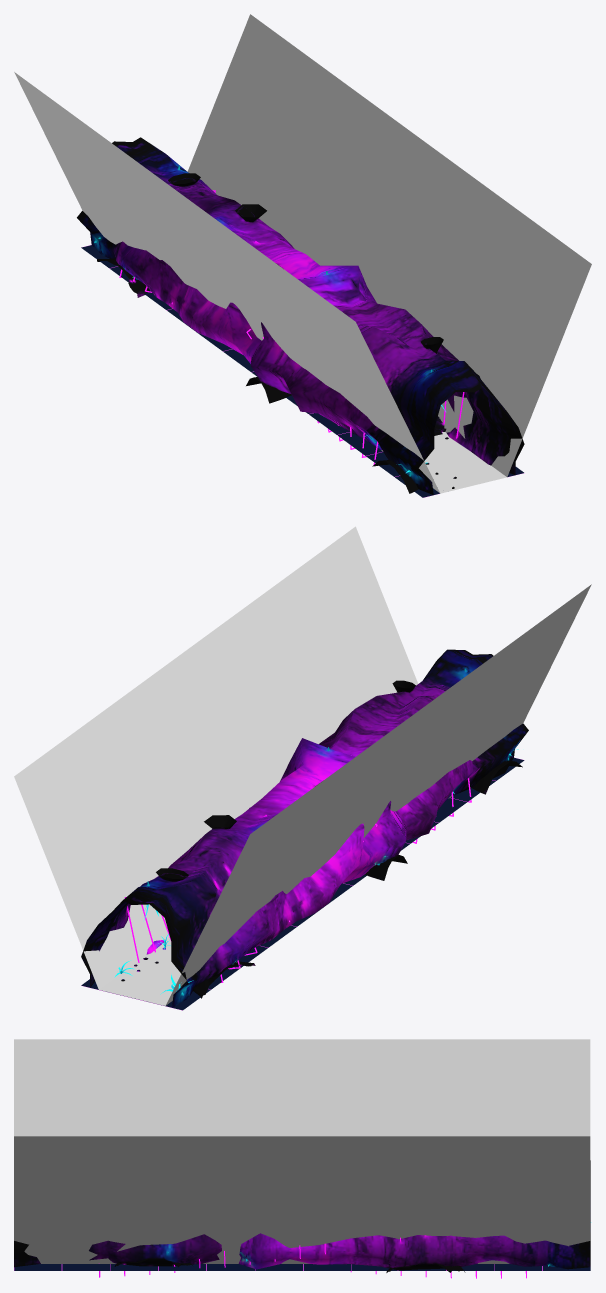
File: Cave_Corridor_1.fbx
3 views of the same model, one above another, from view 1: azimuth 30°, elevation 25°; view 2: azimuth 150°, elevation 25°; view 3: azimuth 270°, elevation 25° (orthographic). The views are drawn at different scales.
Visible parts, largest first — view 1: Cave_Corridor_Colider, Cave_Corridor_1; view 2: Cave_Corridor_Colider, Cave_Corridor_1; view 3: Cave_Corridor_Colider, Cave_Corridor_1.
Boxes of the visible parts, x1,y1,x2,y2 form: Cave_Corridor_Colider: (14, 14, 591, 493); Cave_Corridor_1: (77, 137, 524, 497); Cave_Corridor_Colider: (14, 526, 591, 1005); Cave_Corridor_1: (81, 649, 528, 1010); Cave_Corridor_Colider: (14, 1039, 590, 1263); Cave_Corridor_1: (14, 1160, 591, 1278).
Bounding box in the file's own units: 18.34 × 16.47 × 46.1.
